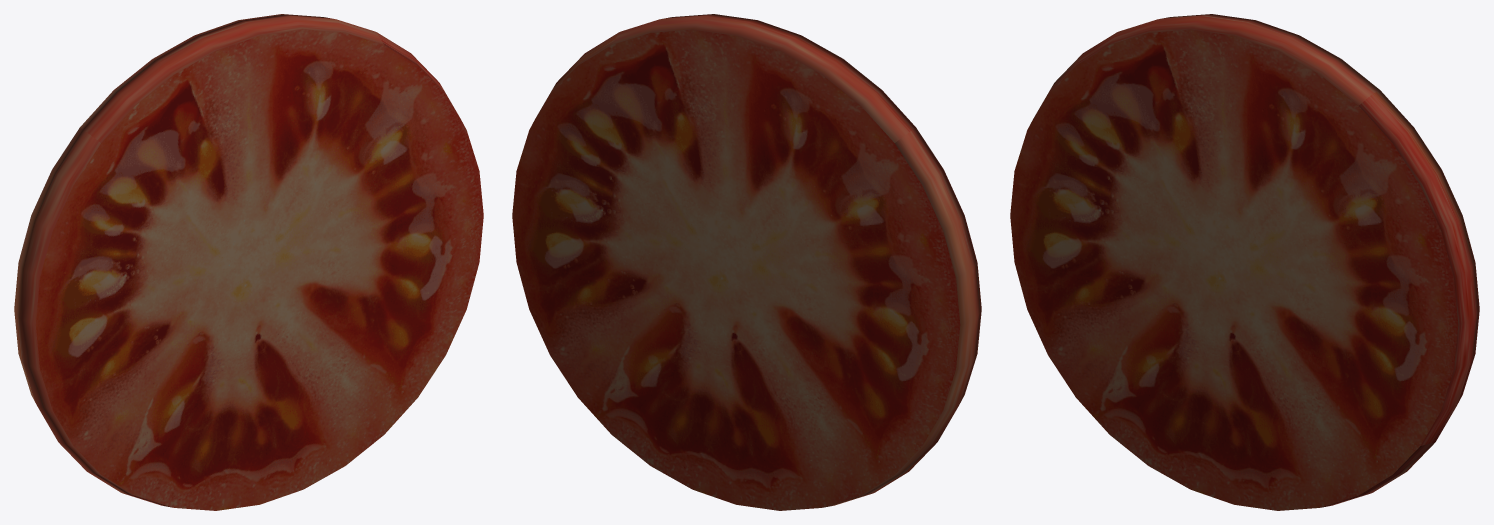
The model's file is domates dilim.fbx.
3 views of the same model, side by side, from view 1: azimuth 30°, elevation 25°; view 2: azimuth 150°, elevation 25°; view 3: azimuth 330°, elevation 25° (orthographic).
Visible parts, largest first — view 1: Cylinder.002; view 2: Cylinder.002; view 3: Cylinder.002.
Boxes of the visible parts, <box> form: Cylinder.002: <box>14,14,483,510</box>; Cylinder.002: <box>512,14,981,510</box>; Cylinder.002: <box>1010,14,1479,510</box>.
Size of the model in its own units: 290 by 290 by 23.52.
1 material, 1 textured.
